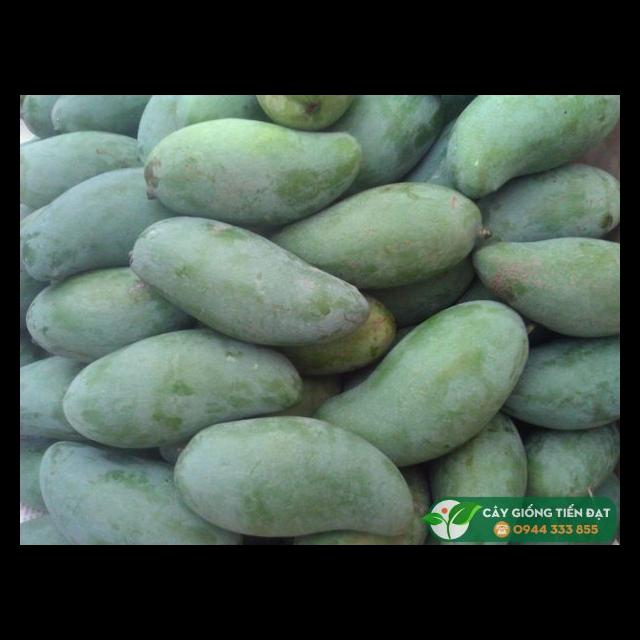xoai: (311, 297, 529, 466), (130, 215, 374, 346), (175, 416, 420, 536), (59, 330, 309, 447), (145, 119, 364, 226), (275, 182, 492, 288)
